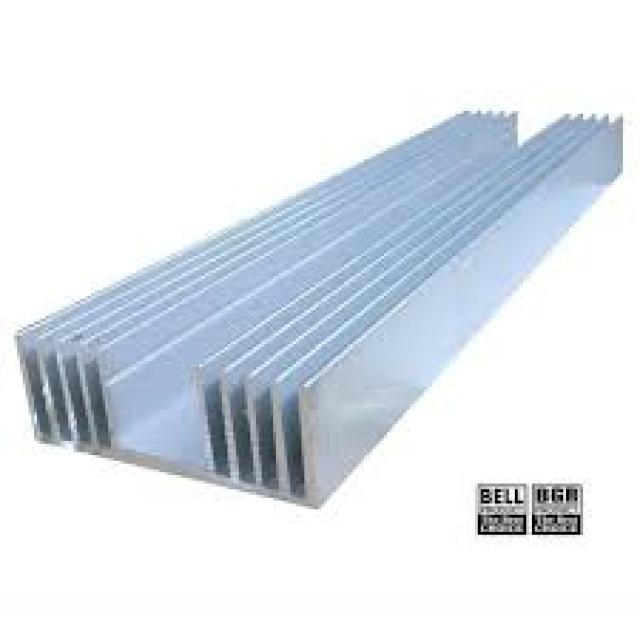Milling: (13, 14, 640, 515)
